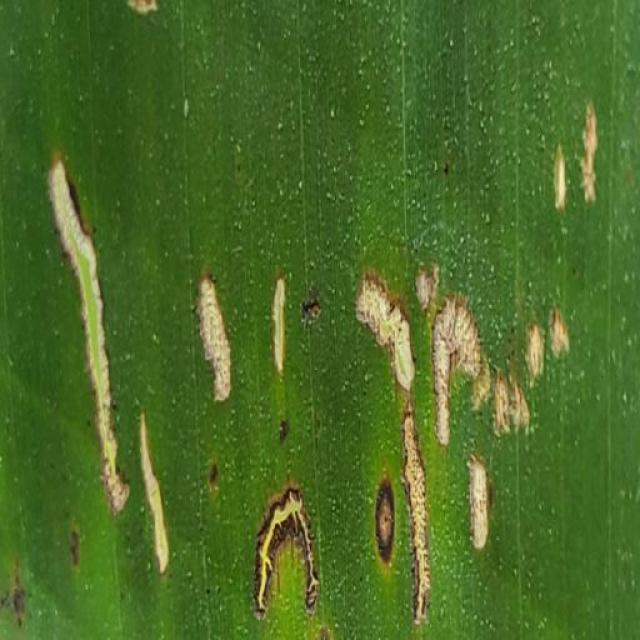Black_rot: (179, 251, 640, 640), (5, 144, 175, 631), (520, 72, 632, 236), (94, 0, 222, 36)
